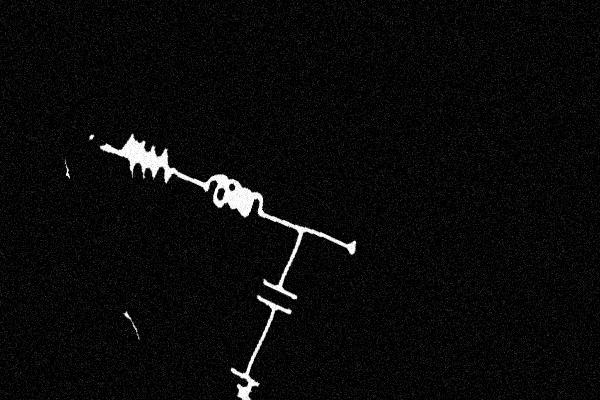capacitor: (251, 270, 302, 327)
ground: (221, 358, 265, 400)
inductor: (190, 161, 275, 230)
resistor: (108, 124, 187, 199)
